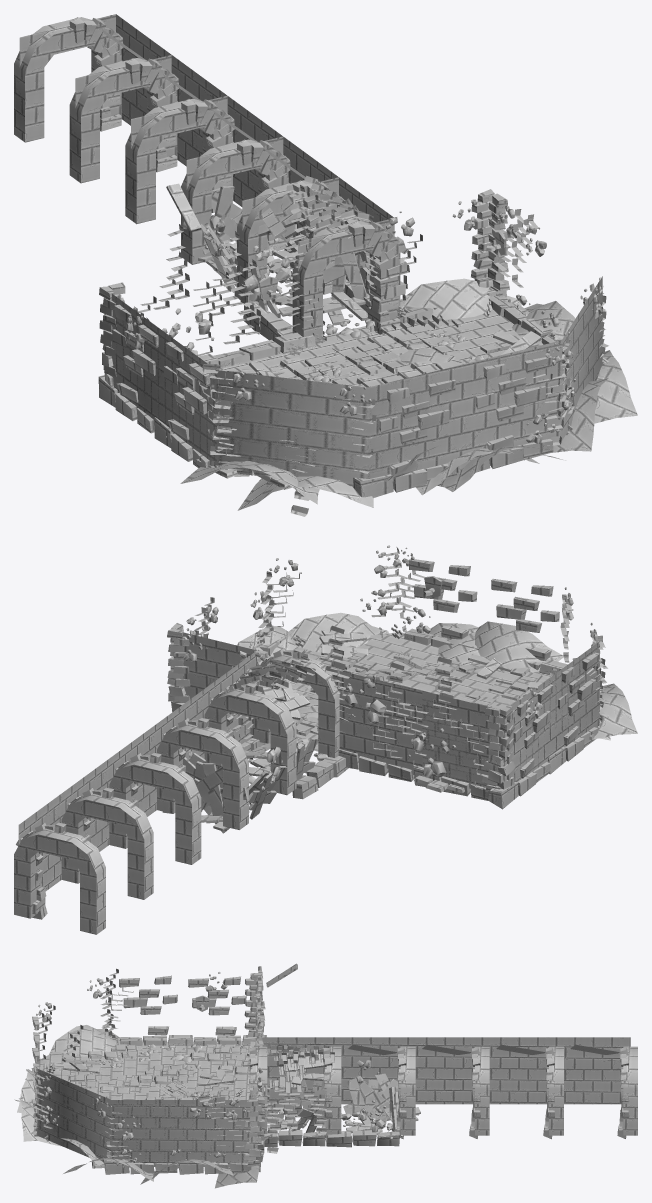
The model's file is DressingCell.glb.
3 renders of one model, top to bottom at view 1: azimuth 30°, elevation 25°; view 2: azimuth 150°, elevation 25°; view 3: azimuth 270°, elevation 25°, orthographic. The views are drawn at different scales.
Parts seen in each view (by area): view 1: transform87 (×45), file1; view 2: transform87 (×39), file1; view 3: transform87 (×44), file1.
Boxes of the visible parts, <box> form: transform87 (×45): <box>14,14,637,510</box>; file1: <box>105,14,602,486</box>; transform87 (×39): <box>14,560,637,934</box>; file1: <box>18,632,599,891</box>; transform87 (×44): <box>14,973,637,1188</box>; file1: <box>37,1037,630,1166</box>.
Size of the model in its own units: 23.55 by 9.64 by 42.07.
173 materials, 173 textured.
